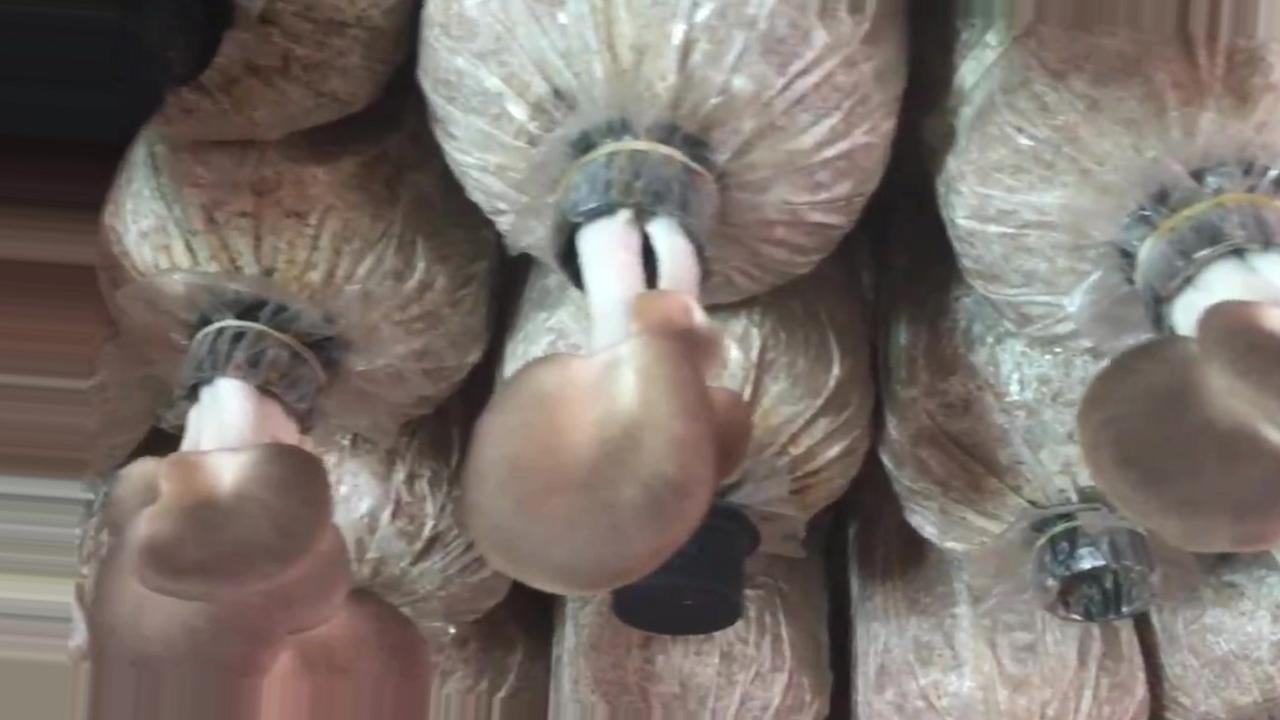nam: (84, 337, 432, 720), (470, 142, 751, 595), (1080, 188, 1280, 549)
